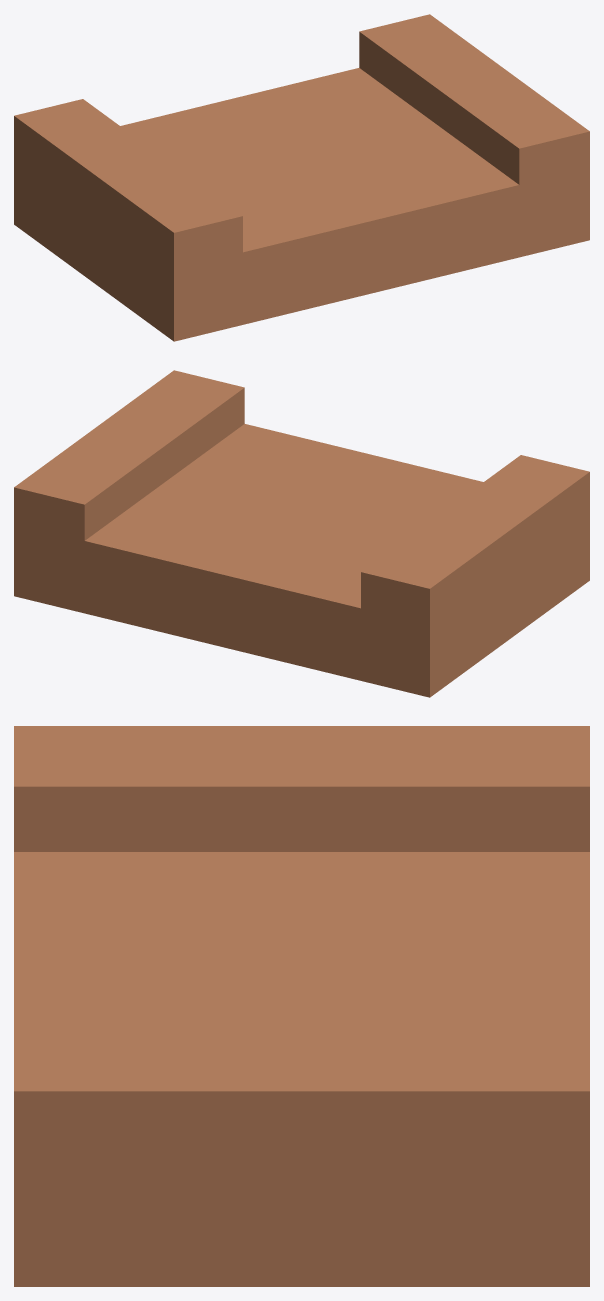
The model's file is Board.fbx.
3 renders of one model, top to bottom at view 1: azimuth 30°, elevation 25°; view 2: azimuth 150°, elevation 25°; view 3: azimuth 270°, elevation 25°, orthographic. The views are drawn at different scales.
Parts seen in each view (by area): view 1: Board_1; view 2: Board_1; view 3: Board_1.
Part boxes in pixels (left/top/right/bottom): Board_1: left=14, top=14, right=589, bottom=341; Board_1: left=14, top=370, right=589, bottom=697; Board_1: left=14, top=726, right=589, bottom=1286.
Size of the model in its own units: 120 by 30 by 80.
